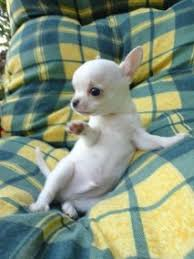chihuahua: (27, 43, 187, 214)
